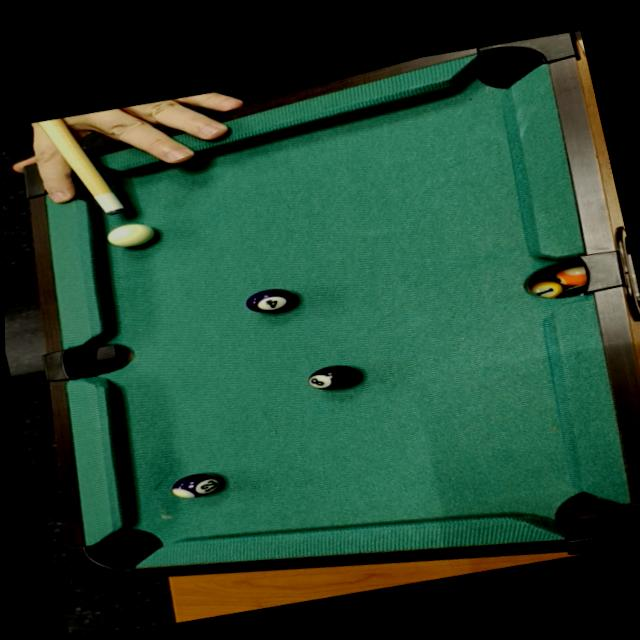cue ball: (97, 215, 158, 252)
other: (166, 464, 229, 504), (303, 357, 364, 395), (243, 282, 299, 319)
